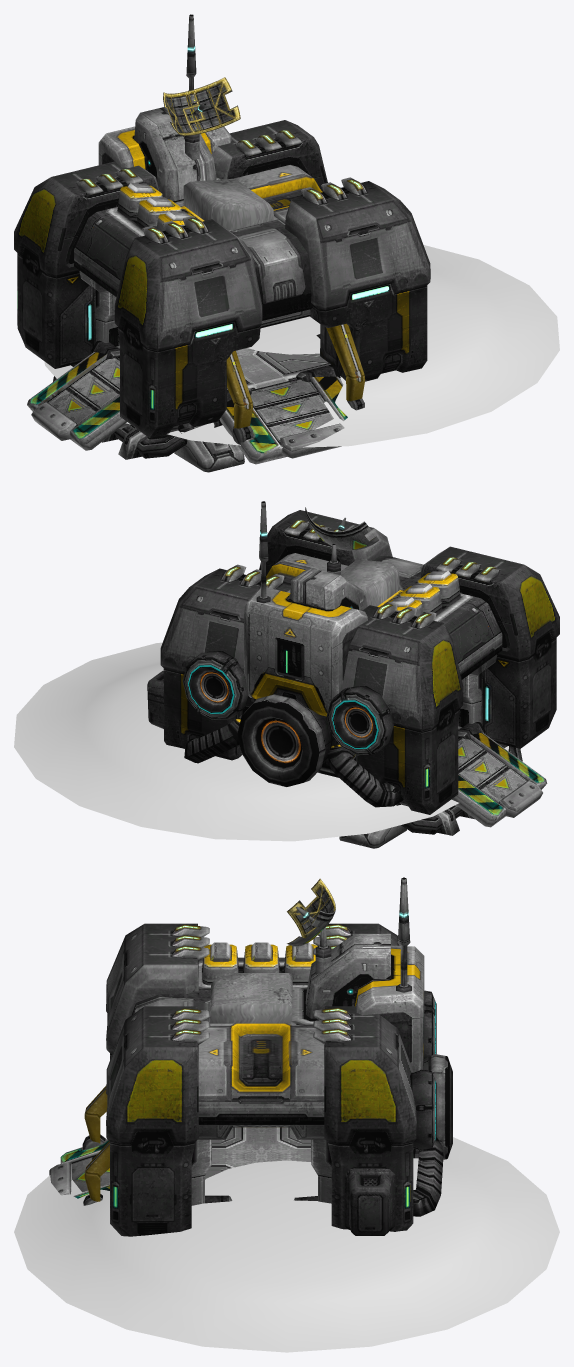
The model's file is Factory_Umojan.glb.
3 renders of one model, top to bottom at view 1: azimuth 30°, elevation 25°; view 2: azimuth 150°, elevation 25°; view 3: azimuth 270°, elevation 25°, orthographic. The views are drawn at different scales.
Parts seen in each view (by area): view 1: Mesh, Sphere01distortion02, Tube001; view 2: Mesh, Sphere01distortion02, Tube001; view 3: Mesh, Sphere01distortion02, Tube001.
Boxes of the visible parts, x1,y1,x2,y2 form: Mesh: (14,14,430,472); Sphere01distortion02: (44,245,559,448); Tube001: (163,77,240,135); Mesh: (147,501,559,848); Sphere01distortion02: (14,642,508,841); Tube001: (305,507,378,550); Mesh: (49,877,452,1236); Sphere01distortion02: (14,1137,559,1352); Tube001: (287,878,335,946).
Size of the model in its own units: 5.83 by 3.67 by 5.13.
3 materials, 2 textured.
